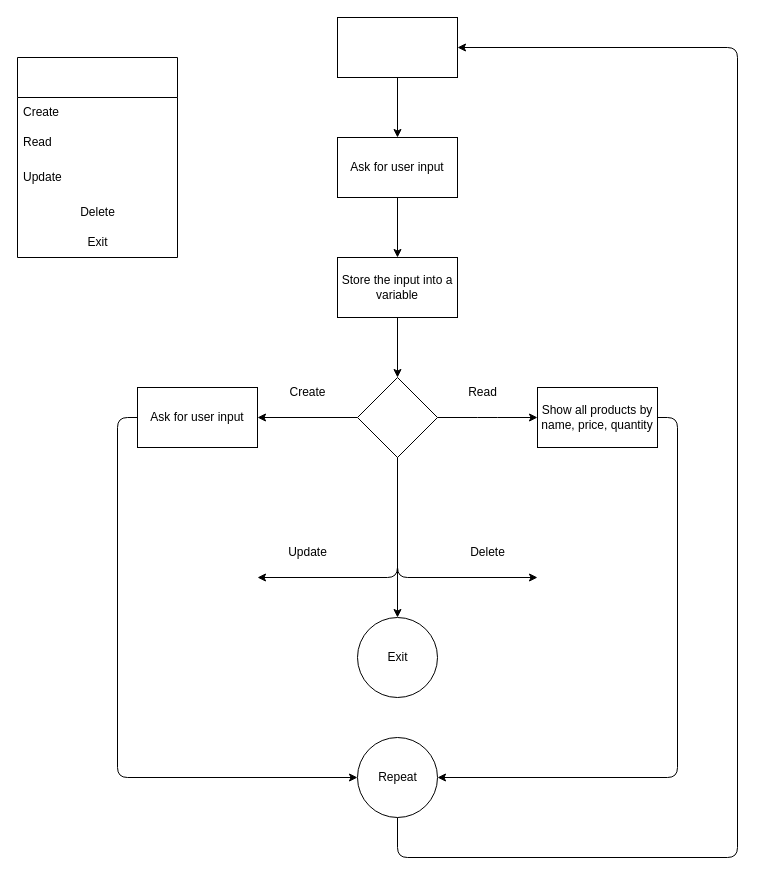
The diagram is 763 pixels wide and 883 high, and some of its shapes have lost their labels. Each missing label, with the box of its shape:
Choose: (356, 376, 438, 458)
Menu Options: (16, 56, 178, 258)
Show menu options: (336, 16, 458, 78)
